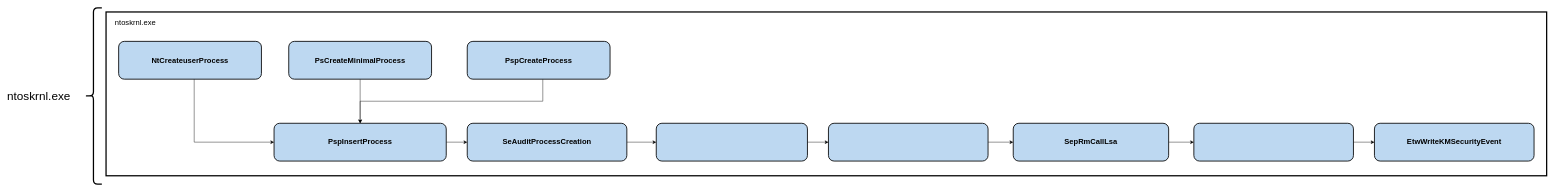
This 1554x192 diagram has some shape labels left out. The shapes that lost their labels are listed below. From the top down, each one's box as (x1, y1, x2, y2) in pixels, then its label:
(656, 123, 808, 161): SepAdtLogAuditRecord
(828, 123, 988, 161): SepQueueWorkItem
(1193, 123, 1354, 161): AdtpWriteToEtw
